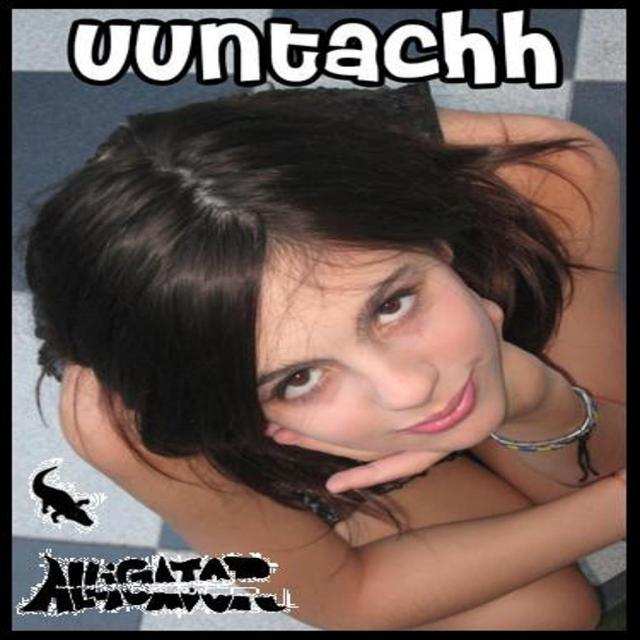nomask: (238, 243, 504, 452)
